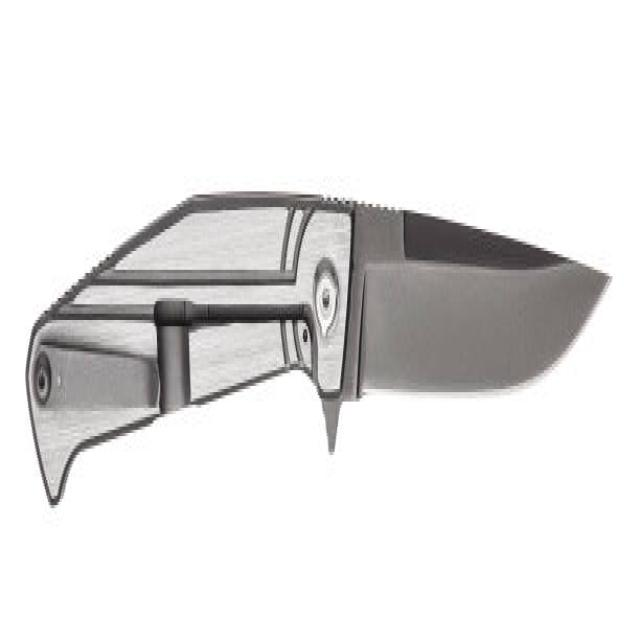knife: (20, 175, 617, 524)
